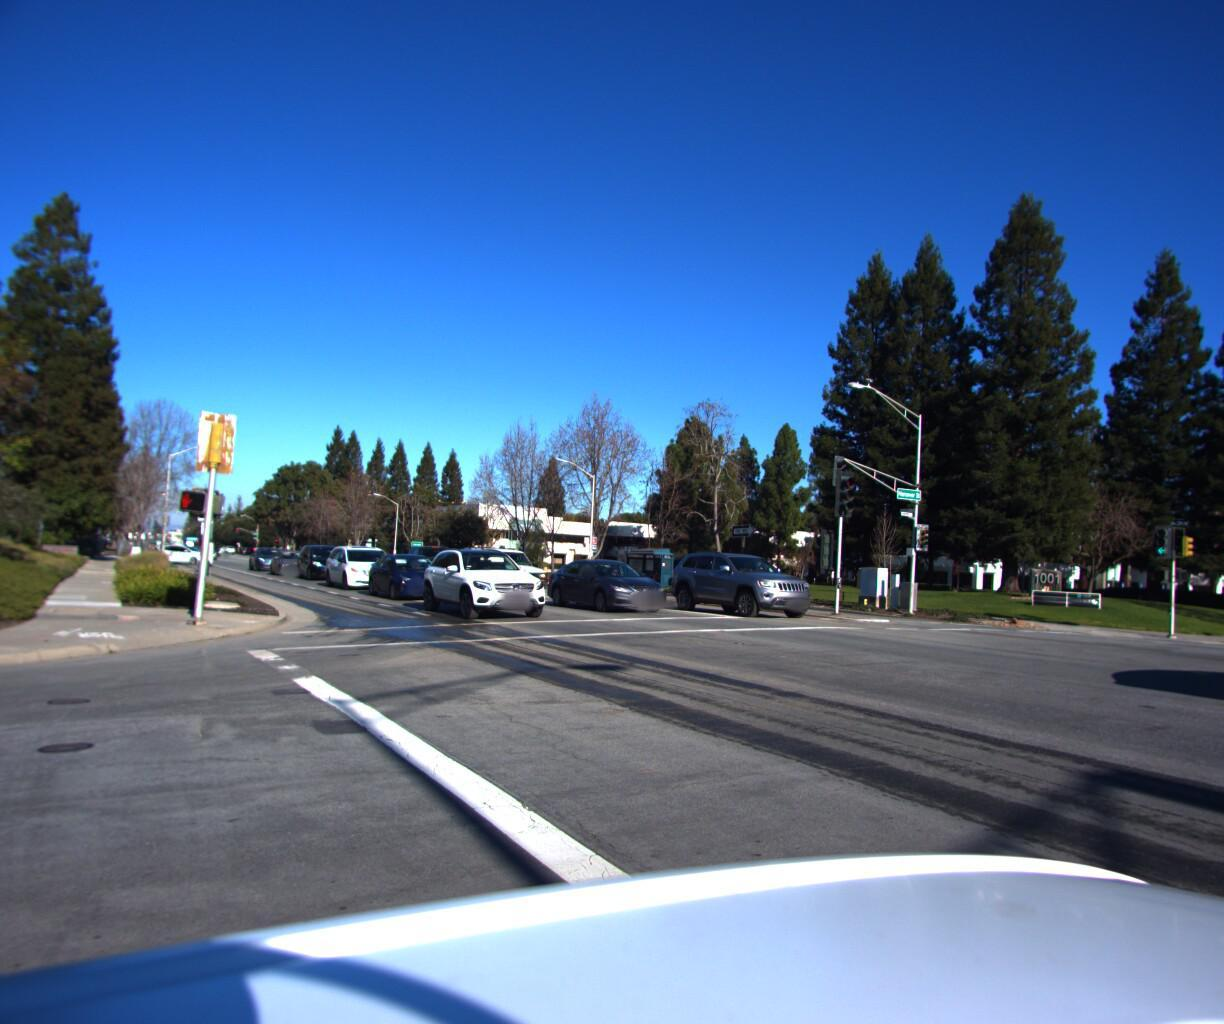car: (413, 535, 562, 617), (661, 543, 830, 615), (531, 547, 681, 611), (444, 534, 557, 595), (360, 543, 461, 599), (317, 537, 407, 590), (389, 536, 475, 584), (294, 537, 357, 580), (264, 542, 322, 573), (150, 538, 218, 561), (244, 540, 293, 568)
